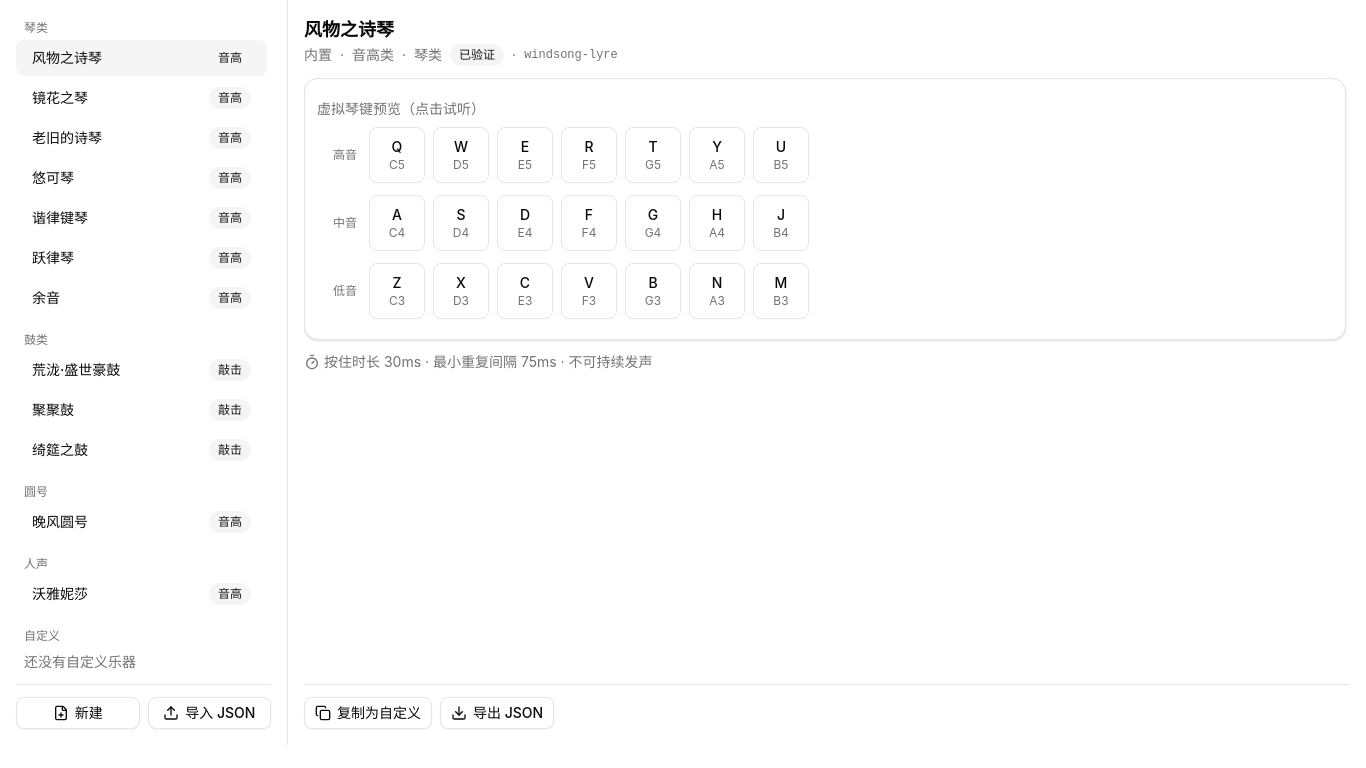
InstrumentsPage 列表与详情 › 敲击乐器显示只读鼓映射表与分界音高
The width and height of the screenshot is (1366, 768).
Click the text "荒泷·盛世豪鼓" at (76, 370), box [32,360,120,380]
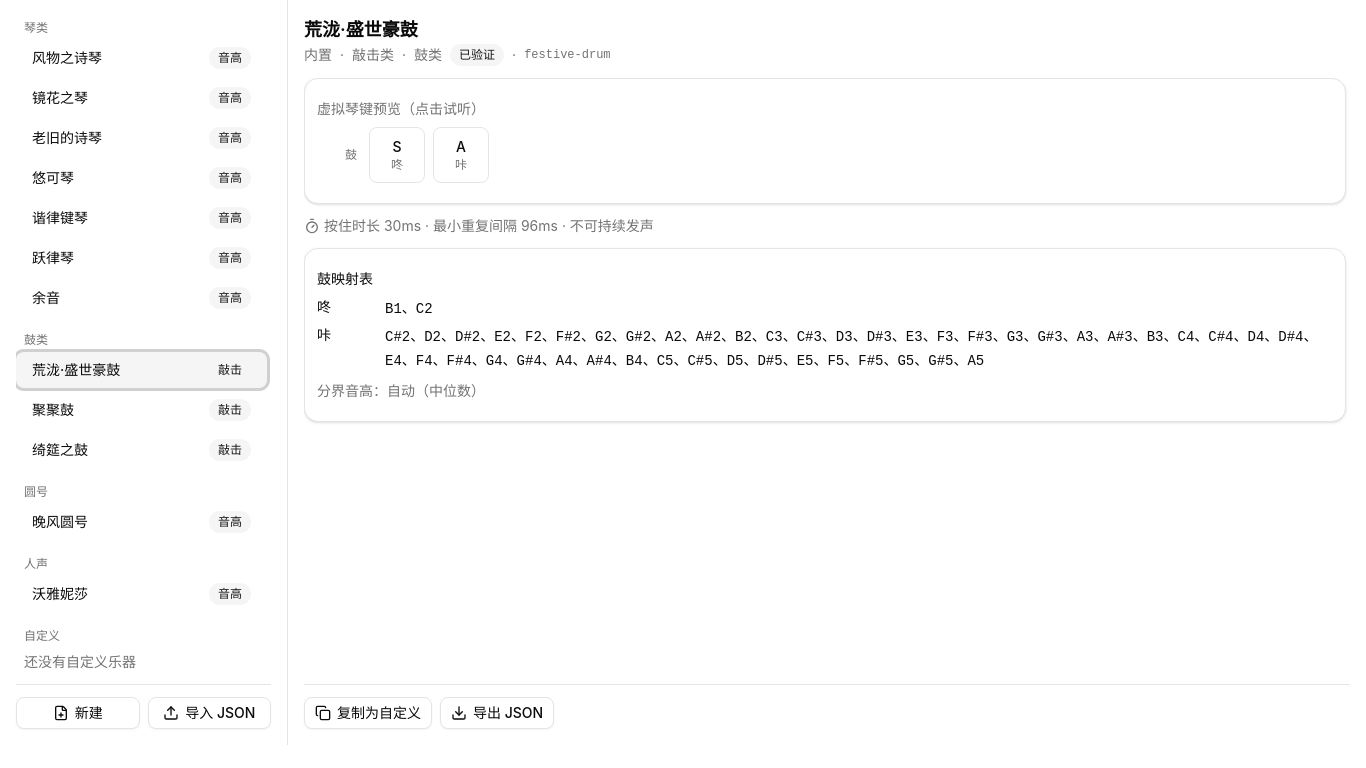
Check: the text "鼓映射表" is shown, box [317,270,373,287]
Check: the text "咚" is shown 2 times, box [391,157,403,173]; [317,298,331,315]
Check: the text "分界音高：自动（中位数）" is shown, box [317,382,485,399]
